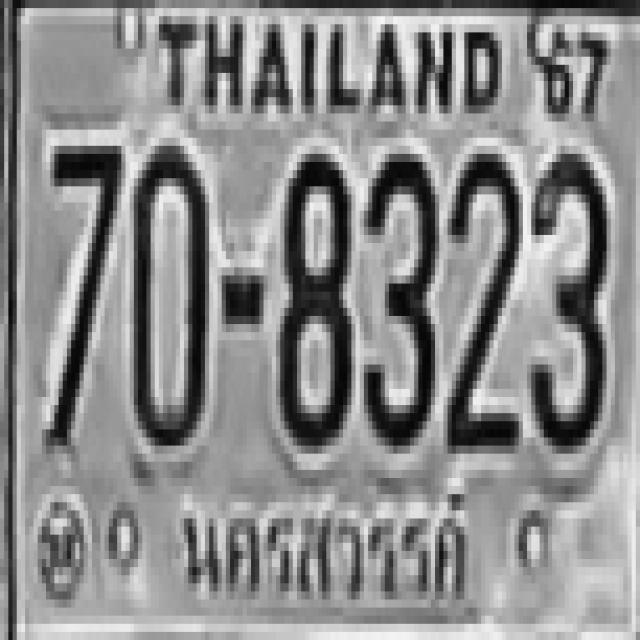0: (130, 138, 205, 437)
2: (443, 146, 519, 445)
3: (527, 146, 602, 445), (360, 146, 435, 437)
7: (46, 137, 117, 446)
8: (276, 146, 347, 437)
NakhonSawan: (172, 484, 490, 626)
